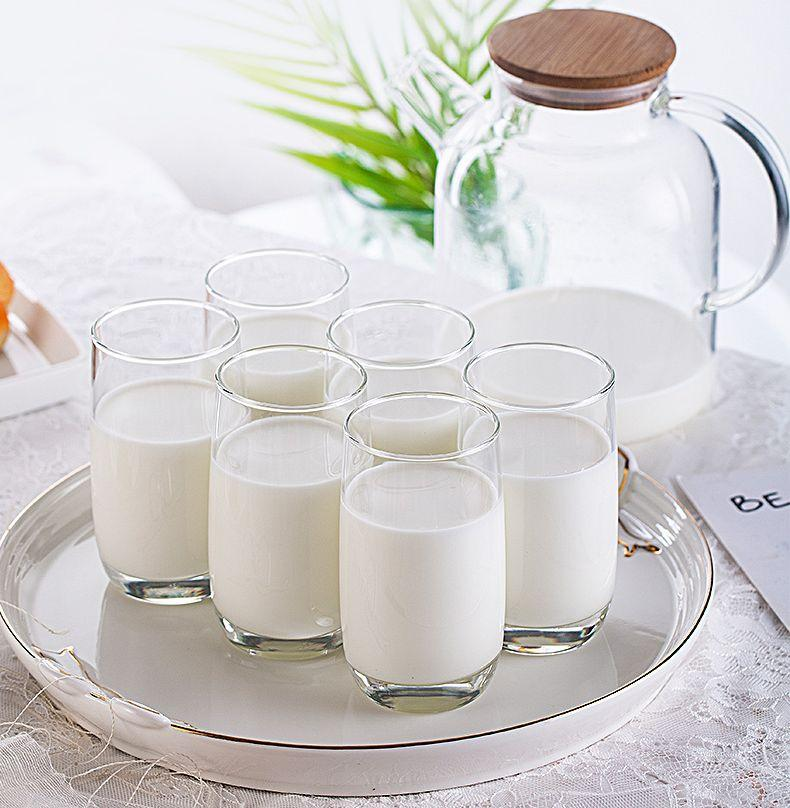produk_susu: (226, 363, 335, 599), (372, 431, 479, 652), (108, 317, 193, 572), (511, 403, 599, 608)
